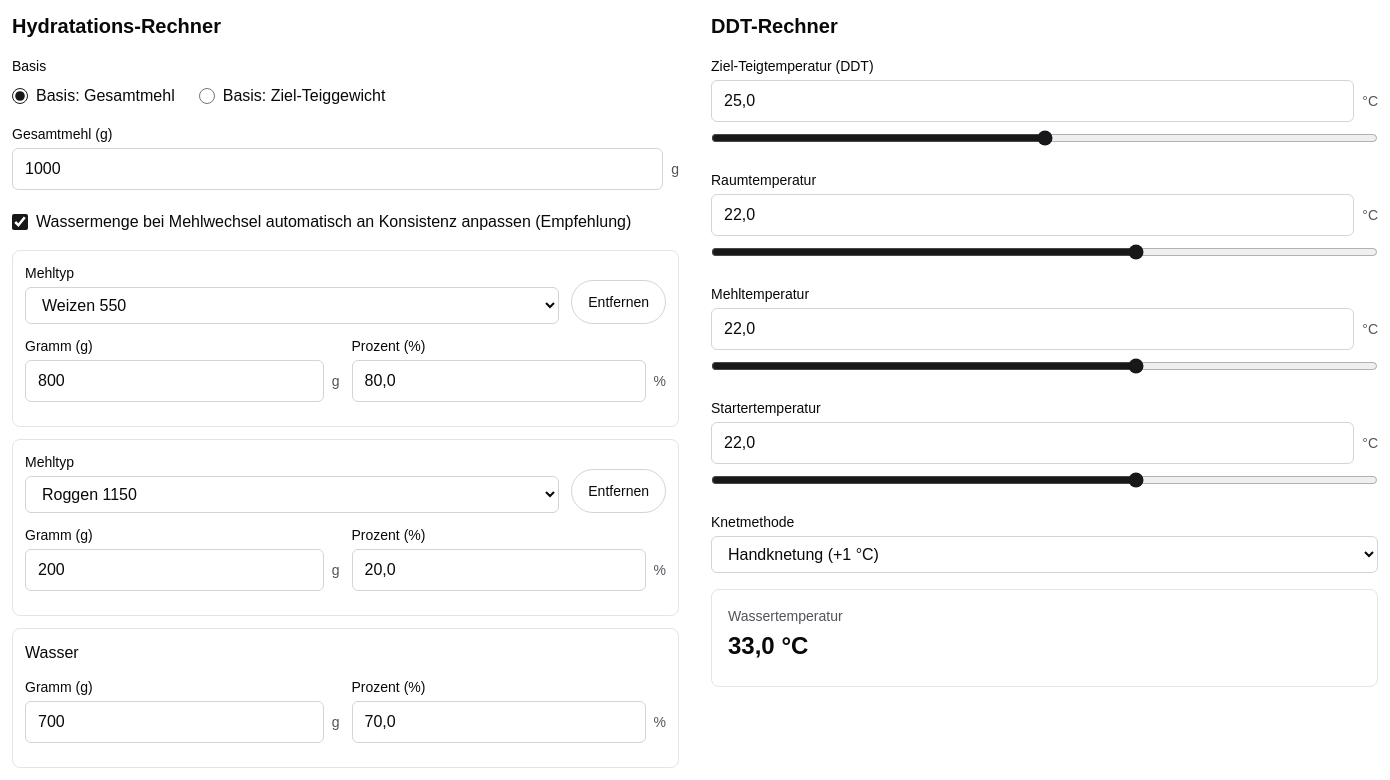
Test: F010 Zahlenfelder: unvollständige Eingaben › F010/AC-5 bleibt die Eingabe beim Verlassen unvollständig, zählt sie wie ein leeres Feld (Q7)
This screenshot has width=1390, height=780.
Replace the text in the 3rd field labelled "Gramm (g)" with ",": (174, 722) 25,701 -> 324,743
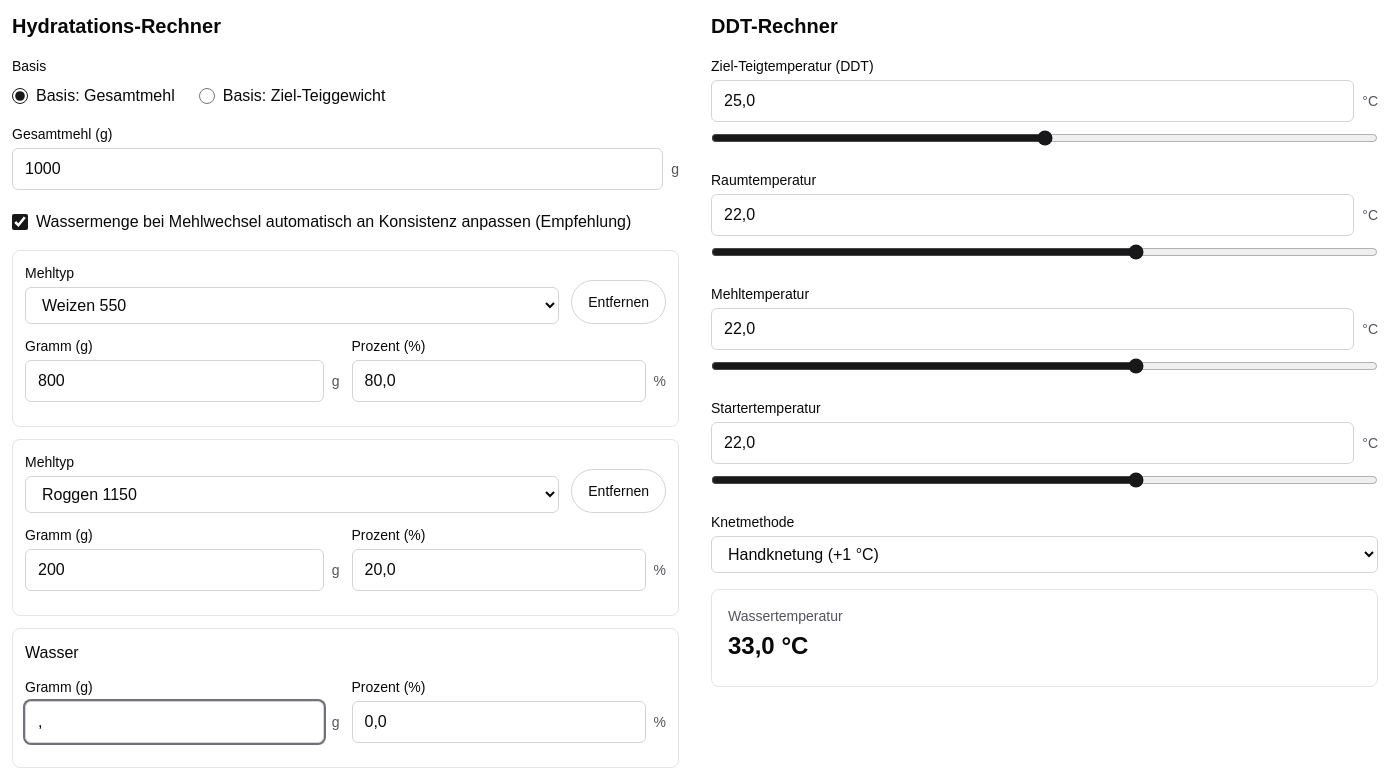
Press Tab
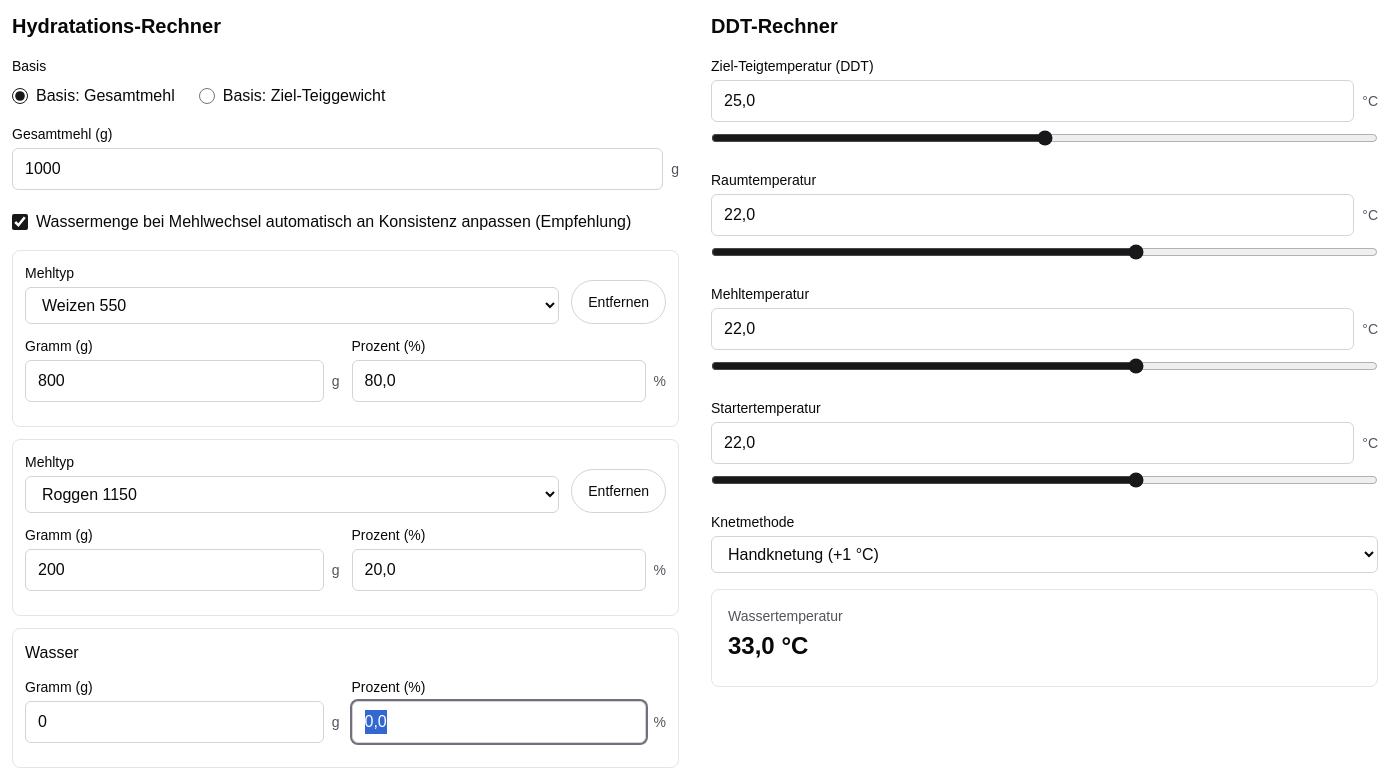
Expected: the 3rd field labelled "Prozent (%)" holds "0,0", 352,701 -> 646,743
Expected: the 3rd field labelled "Gramm (g)" holds "0", 25,701 -> 324,743
